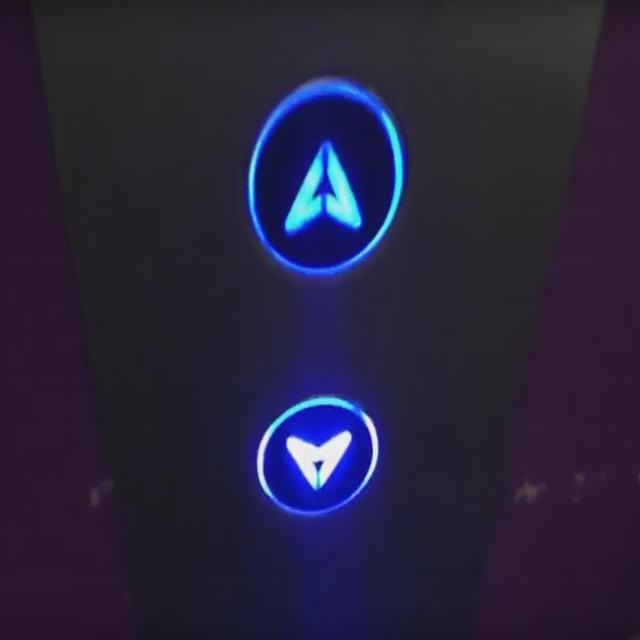down: (251, 386, 381, 525)
up: (246, 70, 405, 280)
